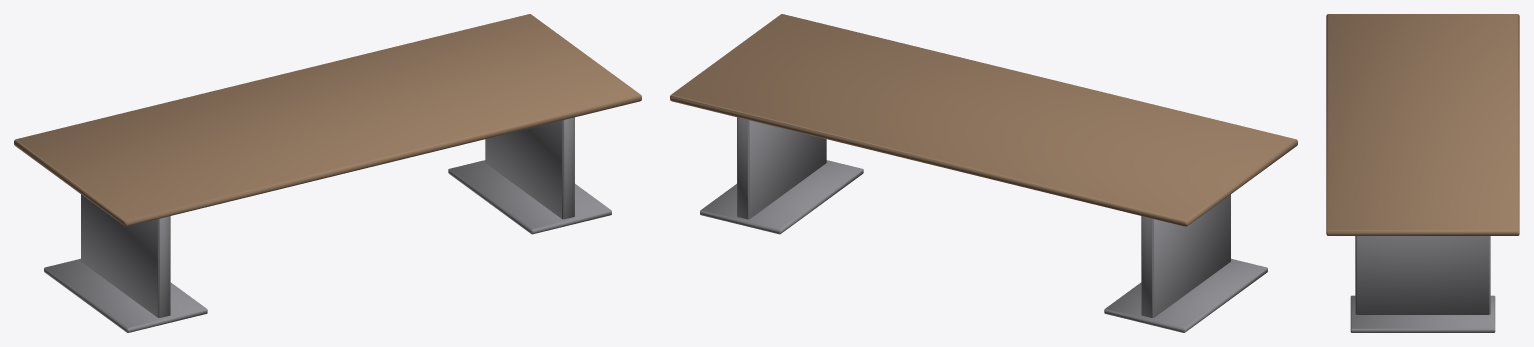
File: conference_table.glb
3 renders of one model, left to right at view 1: azimuth 30°, elevation 25°; view 2: azimuth 150°, elevation 25°; view 3: azimuth 270°, elevation 25°, orthographic. The views are drawn at different scales.
Parts seen in each view (by area): view 1: conference_table; view 2: conference_table; view 3: conference_table.
Boxes of the visible parts, <box> form: conference_table: <box>14,14,641,332</box>; conference_table: <box>670,14,1297,332</box>; conference_table: <box>1326,14,1519,332</box>.
Size of the model in its own units: 3.2 by 0.75 by 1.2.
